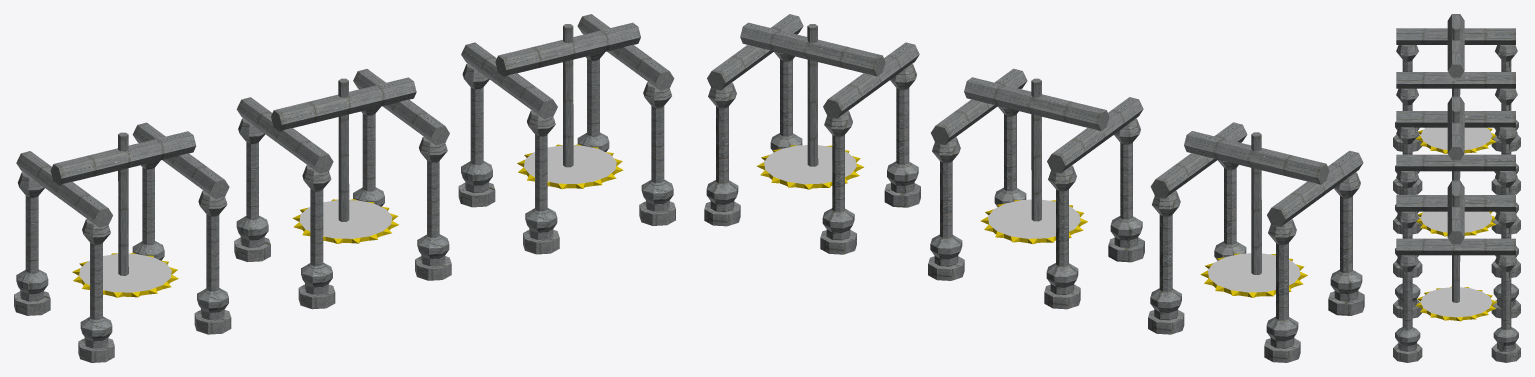
Rendered from VishnuChakra.fbx.
3 views of the same model, side by side, from view 1: azimuth 30°, elevation 25°; view 2: azimuth 150°, elevation 25°; view 3: azimuth 270°, elevation 25° (orthographic). The views are drawn at different scales.
Parts seen in each view (by area): view 1: Cylinder.011, Cylinder.002, Cylinder.007, Pillar2.005, Pillar2.001, Pillar2.004, Pillar1.002, Pillar1.006, Pillar2.003, Pillar2.002, Pillar2.006, Pillar1.004 (+18 smaller); view 2: Cylinder.011, Cylinder.007, Cylinder.002, Pillar1.005, Pillar1.003, Pillar1.006, Pillar1.001, Pillar1.004, Pillar2.002, Pillar1.002, Pillar2.006, Pillar2.004 (+18 smaller); view 3: Cylinder.003, Cylinder.005, Cylinder.009, Pillar1.001, Pillar2.001, Cylinder.001, Cylinder.006, Cylinder.010, Circle.001, Circle.007, Cylinder.002, Cylinder.007 (+18 smaller).
Part boxes in pixels (box(x1,y1,x2,y2)): Cylinder.011: box(50, 131, 196, 184); Cylinder.002: box(495, 22, 640, 76); Cylinder.007: box(271, 77, 416, 131); Pillar2.005: box(194, 190, 231, 334); Pillar2.001: box(639, 81, 675, 225); Pillar2.004: box(298, 165, 335, 309); Pillar1.002: box(458, 63, 495, 207); Pillar1.006: box(14, 171, 50, 315); Pillar2.003: box(415, 136, 451, 280); Pillar2.002: box(523, 110, 559, 254); Pillar2.006: box(78, 219, 114, 362); Pillar1.004: box(234, 118, 270, 261); Cylinder.011: box(1184, 131, 1329, 184); Cylinder.007: box(964, 77, 1109, 130); Cylinder.002: box(740, 22, 885, 76); Pillar1.005: box(1148, 190, 1184, 334); Pillar1.003: box(928, 137, 964, 280); Pillar1.006: box(1264, 219, 1300, 362); Pillar1.001: box(704, 82, 740, 226); Pillar1.004: box(1044, 165, 1080, 309); Pillar2.002: box(884, 64, 920, 207); Pillar1.002: box(820, 111, 856, 254); Pillar2.006: box(1328, 172, 1364, 315); Pillar2.004: box(1108, 118, 1144, 262); Cylinder.003: box(1396, 238, 1515, 255); Cylinder.005: box(1396, 154, 1515, 171); Cylinder.009: box(1396, 72, 1515, 88); Pillar1.001: box(1491, 255, 1520, 362); Pillar2.001: box(1393, 255, 1422, 362); Cylinder.001: box(1396, 195, 1515, 211); Cylinder.006: box(1396, 111, 1515, 127); Cylinder.010: box(1396, 28, 1515, 44); Circle.001: box(1420, 287, 1492, 317); Circle.007: box(1420, 127, 1492, 149); Cylinder.002: box(1447, 180, 1464, 244); Cylinder.007: box(1447, 96, 1464, 160).
Bounding box in the file's own units: 43.9 × 12.95 × 10.65.
